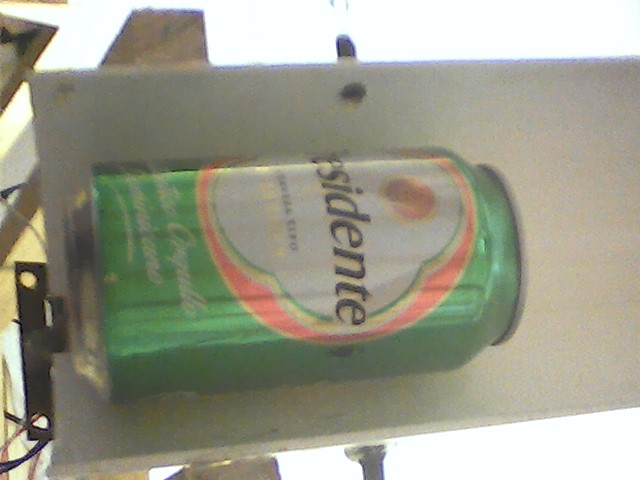lata: (53, 138, 541, 404)
